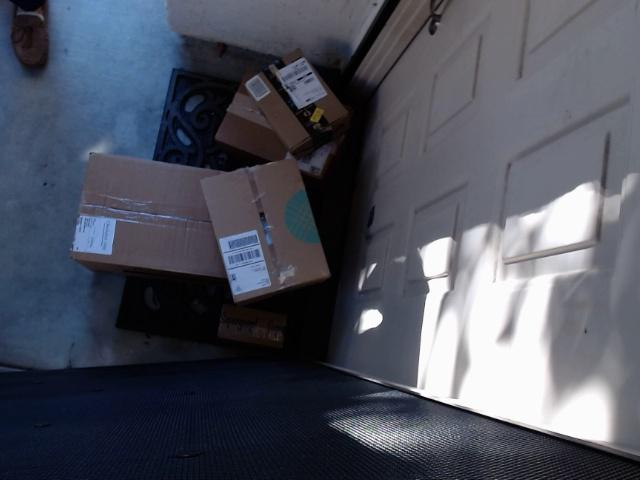box: (77, 129, 252, 309), (209, 32, 396, 198), (199, 149, 354, 305), (241, 58, 356, 146)
